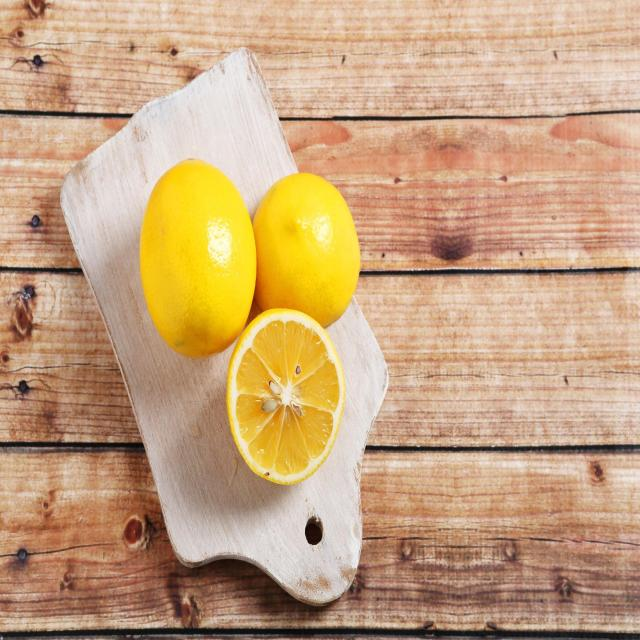lemon: (224, 306, 347, 488)
